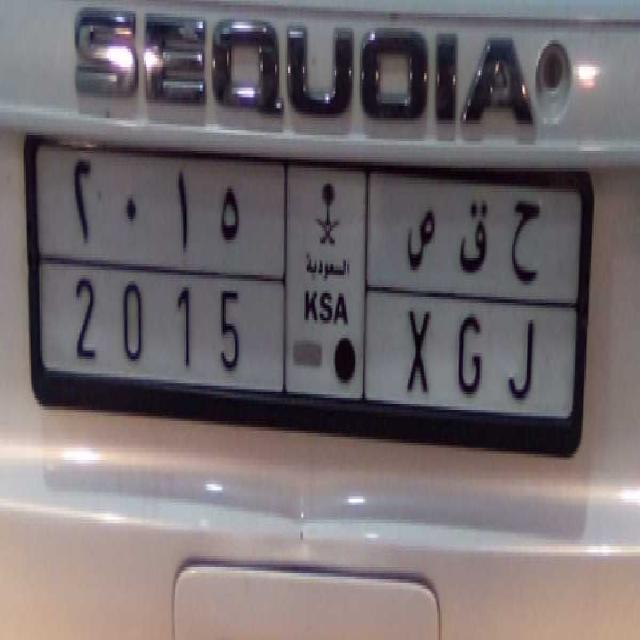license_plate: (43, 266, 553, 422)
